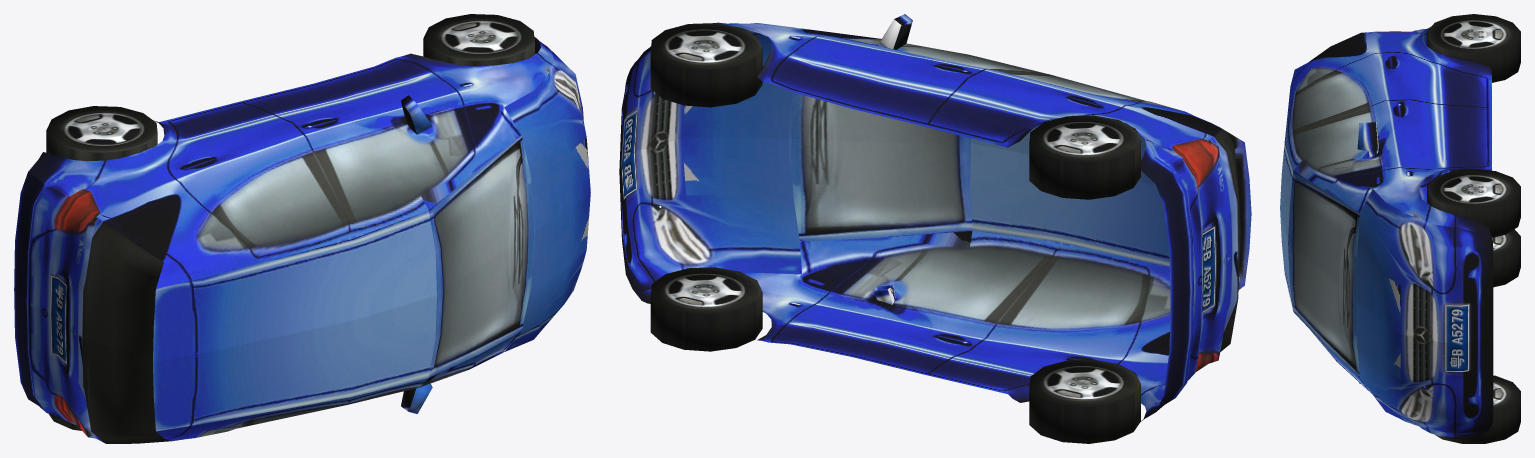
Rendered from lanseqiaoche.DAE.
3 views of the same model, side by side, from view 1: azimuth 30°, elevation 25°; view 2: azimuth 150°, elevation 25°; view 3: azimuth 270°, elevation 25° (orthographic). The views are drawn at different scales.
Parts seen in each view (by area): view 1: benz_class014; view 2: benz_class014; view 3: benz_class014.
Boxes of the visible parts, x1=… form: benz_class014: x1=14, y1=14, x2=590, y2=443; benz_class014: x1=619, y1=14, x2=1251, y2=443; benz_class014: x1=1280, y1=14, x2=1520, y2=443.
Bounding box in the file's own units: 3.76 × 2.02 × 1.68.
Materials: 1 (1 with a texture image).
